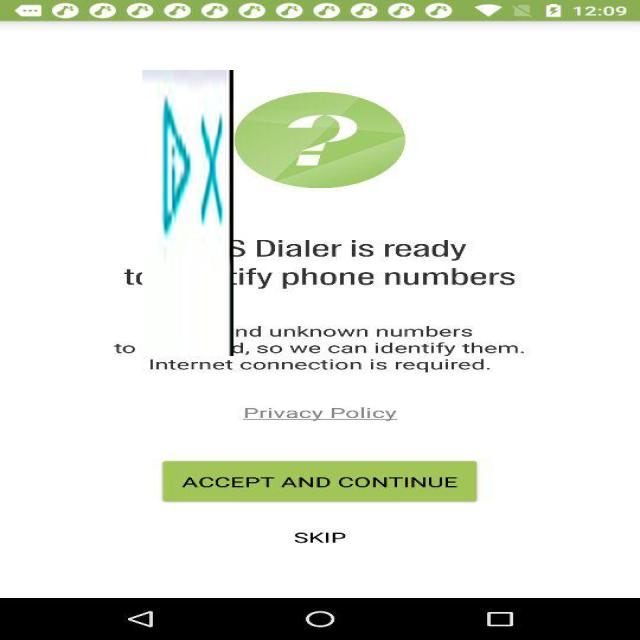sneaking: (142, 70, 234, 356)
